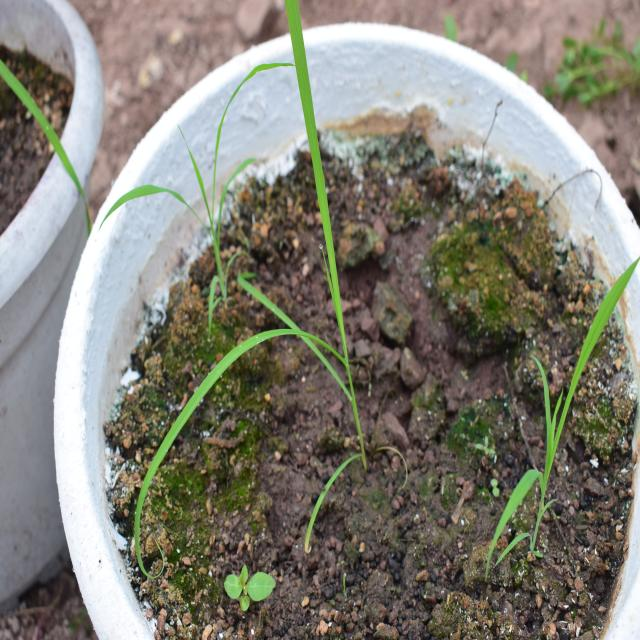barnyard_grass: (92, 24, 388, 532), (476, 210, 629, 577)
